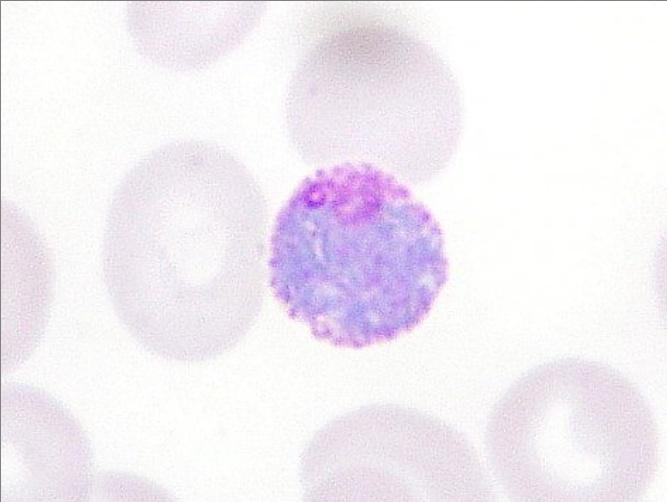Infected: (268, 161, 451, 346)
Uninfected: (104, 141, 270, 356), (287, 27, 466, 191), (488, 359, 661, 502)
